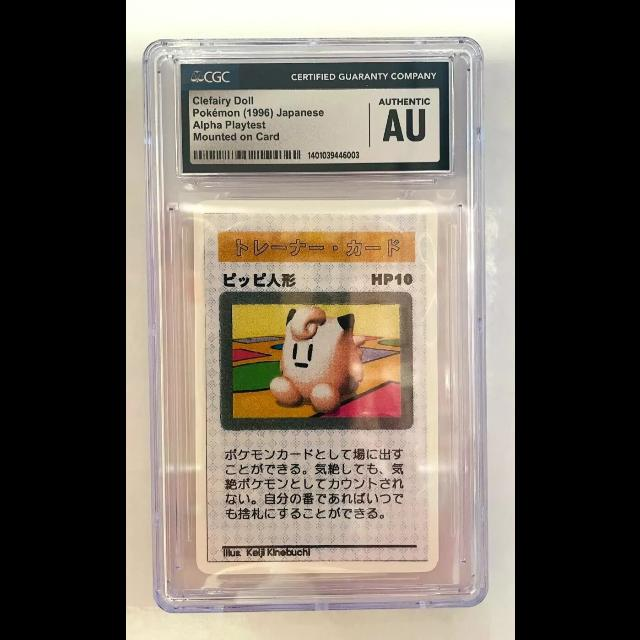card: (192, 199, 440, 576)
cgc_label: (178, 61, 450, 174)
cgc_slab: (142, 37, 489, 614)
